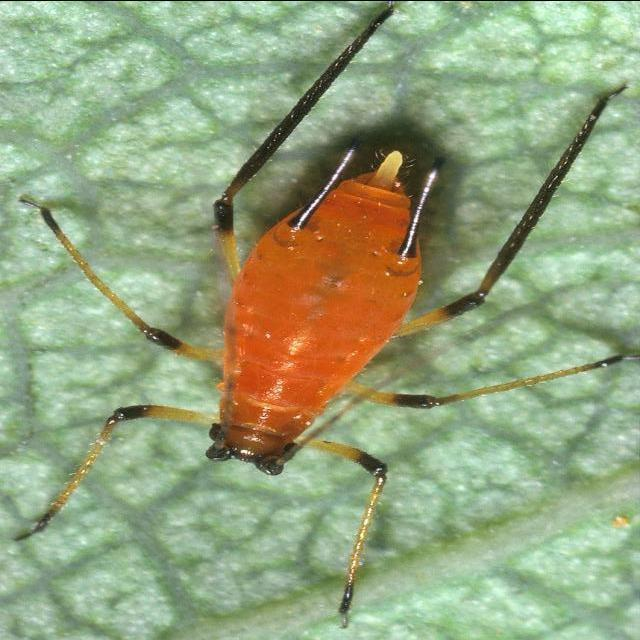aphid: (45, 72, 560, 522)
